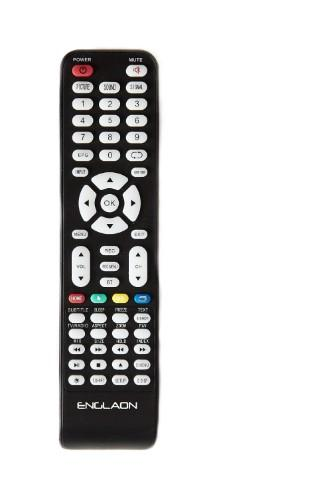Remote control: (58, 49, 161, 453)
